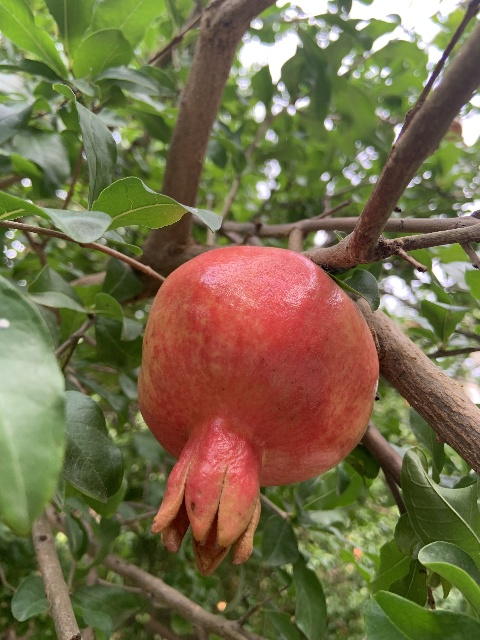ripe: (138, 246, 377, 576)
